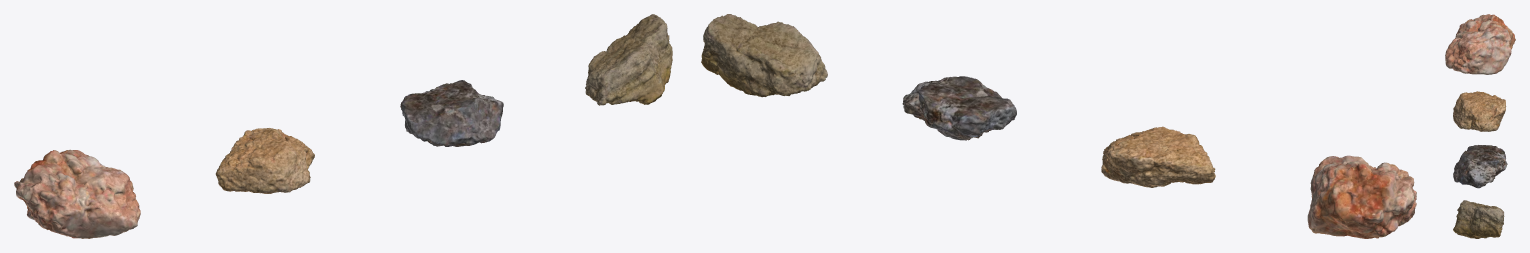
The model's file is rock_cluster_b_low.glb.
The picture shows the model from 3 angles, left to right: view 1: azimuth 30°, elevation 25°; view 2: azimuth 150°, elevation 25°; view 3: azimuth 270°, elevation 25°; orthographic projection. The views are drawn at different scales.
Visible parts, largest first — view 1: namaqualand_rocks_02_a, namaqualand_rocks_02_d, namaqualand_rocks_02_c, namaqualand_rocks_02_b; view 2: namaqualand_rocks_02_d, namaqualand_rocks_02_a, namaqualand_rocks_02_b, namaqualand_rocks_02_c; view 3: namaqualand_rocks_02_a, namaqualand_rocks_02_b, namaqualand_rocks_02_c, namaqualand_rocks_02_d.
Part boxes in pixels (left/top/right/bottom): namaqualand_rocks_02_a: left=14, top=149, right=140, bottom=238; namaqualand_rocks_02_d: left=585, top=14, right=672, bottom=105; namaqualand_rocks_02_c: left=400, top=80, right=503, bottom=146; namaqualand_rocks_02_b: left=215, top=128, right=314, bottom=193; namaqualand_rocks_02_d: left=701, top=14, right=827, bottom=97; namaqualand_rocks_02_a: left=1307, top=155, right=1416, bottom=238; namaqualand_rocks_02_b: left=1101, top=126, right=1215, bottom=187; namaqualand_rocks_02_c: left=902, top=76, right=1016, bottom=140; namaqualand_rocks_02_a: left=1445, top=14, right=1515, bottom=74; namaqualand_rocks_02_b: left=1453, top=91, right=1506, bottom=131; namaqualand_rocks_02_c: left=1453, top=145, right=1507, bottom=188; namaqualand_rocks_02_d: left=1453, top=200, right=1504, bottom=238.
Bounding box in the file's own units: 1.45 × 0.1525 × 0.2169.
1 material, 1 textured.
